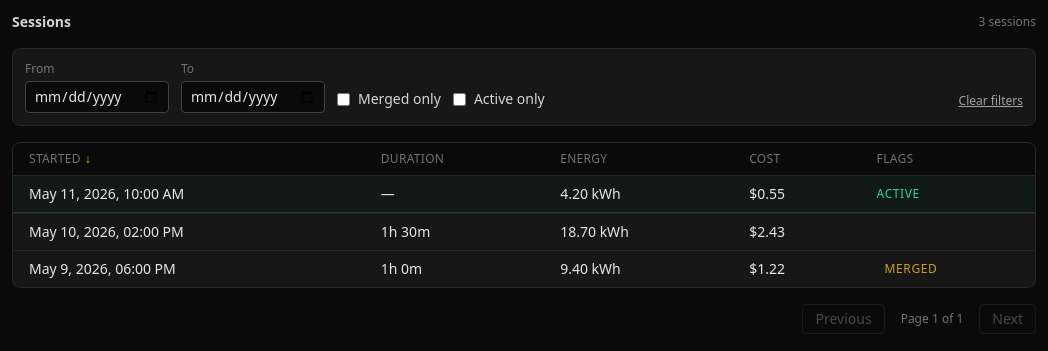
Test: AdminSessions › row click forwards current filter querystring to the detail URL
Click the text "18.70 kWh" at coordinates (578, 232), box 544,214 -> 733,250
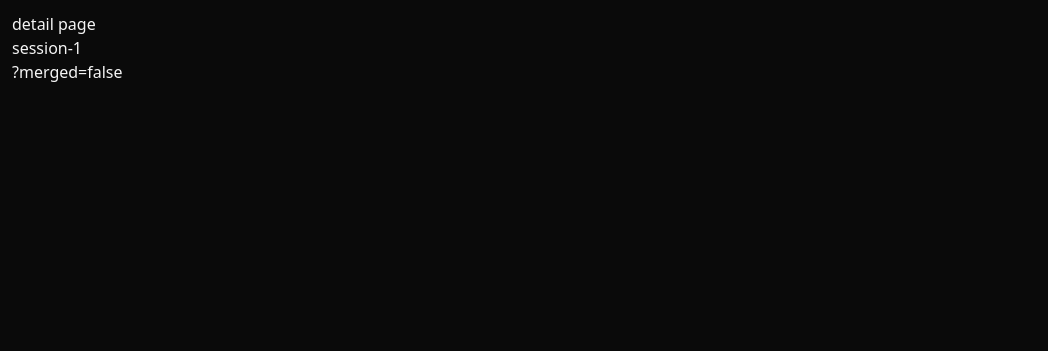
Result: the text "detail page" is shown at 12,13 -> 96,35
Result: the text with test id "detail-search" reads "?merged=false" at 12,61 -> 122,83
